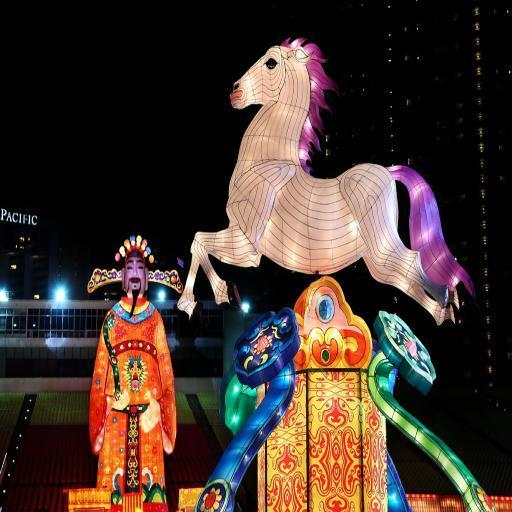horse: (175, 35, 477, 328)
